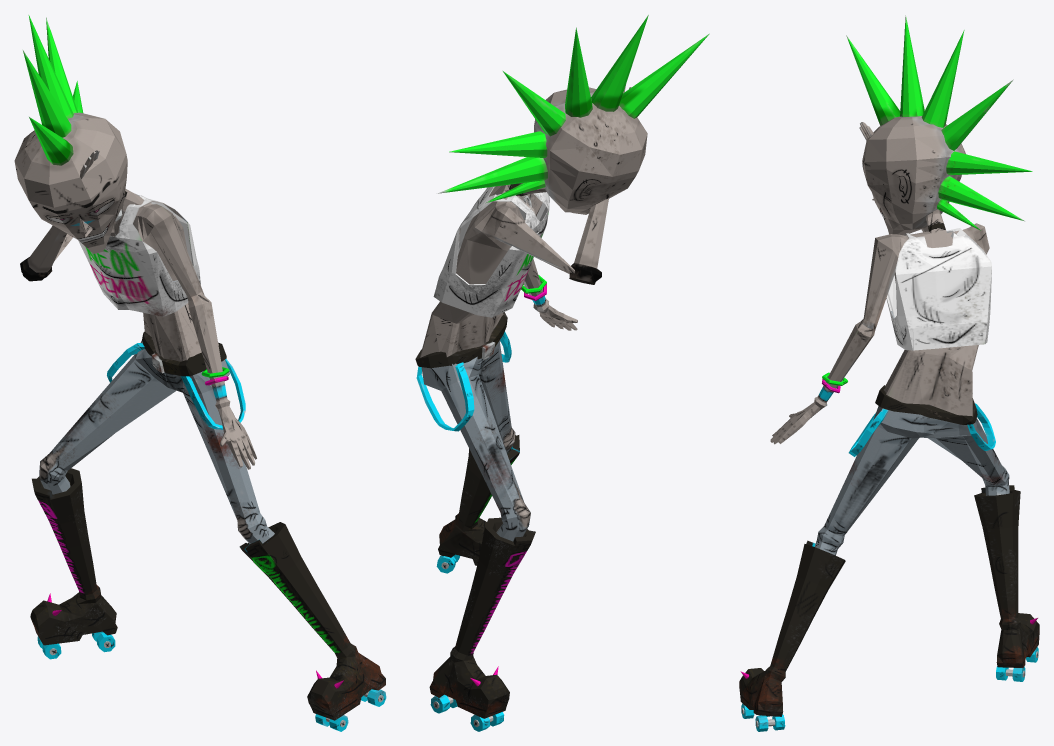
The model's file is punkAnimation_000000.obj.
3 views of the same model, side by side, from view 1: azimuth 30°, elevation 25°; view 2: azimuth 150°, elevation 25°; view 3: azimuth 270°, elevation 25° (orthographic). The views are drawn at different scales.
Parts seen in each view (by area): view 1: Cube.004_Cube.003; view 2: Cube.004_Cube.003; view 3: Cube.004_Cube.003.
Boxes of the visible parts, <box> form: Cube.004_Cube.003: <box>14,15,386,731</box>; Cube.004_Cube.003: <box>415,15,709,731</box>; Cube.004_Cube.003: <box>739,15,1039,731</box>.
Bounding box in the file's own units: 3.21 × 6.7 × 3.
